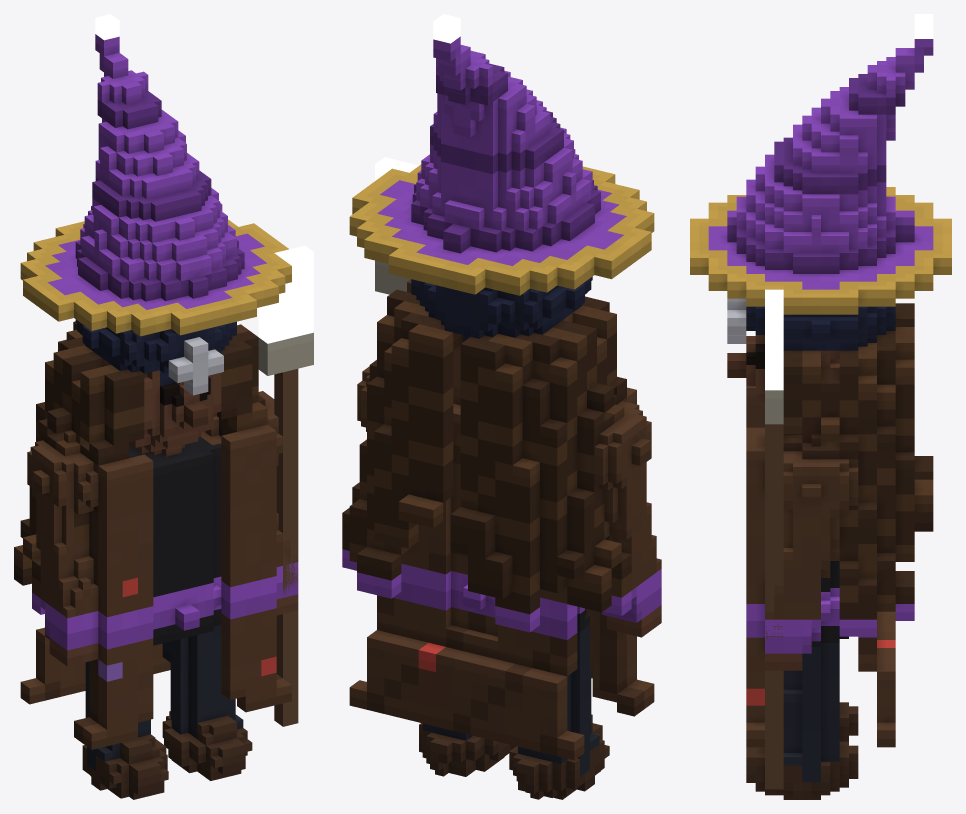
The model's file is u_tidiane__oracle.glb.
The picture shows the model from 3 angles, left to right: view 1: azimuth 30°, elevation 25°; view 2: azimuth 150°, elevation 25°; view 3: azimuth 270°, elevation 25°; orthographic projection. The views are drawn at different scales.
Parts seen in each view (by area): view 1: tidiane_body, tidiane_weapon, tidiane_weaponglow, tidiane_glow; view 2: tidiane_body, tidiane_weapon, tidiane_glow; view 3: tidiane_body, tidiane_weapon, tidiane_weaponglow, tidiane_glow.
Part boxes in pixels (bbox=[...]): tidiane_body: bbox=[14, 34, 298, 799]; tidiane_weapon: bbox=[258, 332, 313, 726]; tidiane_weaponglow: bbox=[258, 245, 313, 343]; tidiane_glow: bbox=[95, 14, 119, 40]; tidiane_body: bbox=[342, 36, 661, 799]; tidiane_weapon: bbox=[375, 260, 410, 294]; tidiane_glow: bbox=[433, 14, 460, 43]; tidiane_body: bbox=[690, 39, 951, 799]; tidiane_weapon: bbox=[765, 390, 783, 789]; tidiane_weaponglow: bbox=[765, 289, 783, 390]; tidiane_glow: bbox=[914, 14, 933, 38].
Size of the model in its own units: 0.825 by 2.22 by 0.7.
